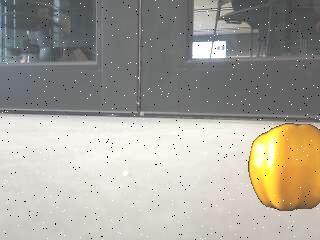Capsicum: (246, 121, 320, 213)
